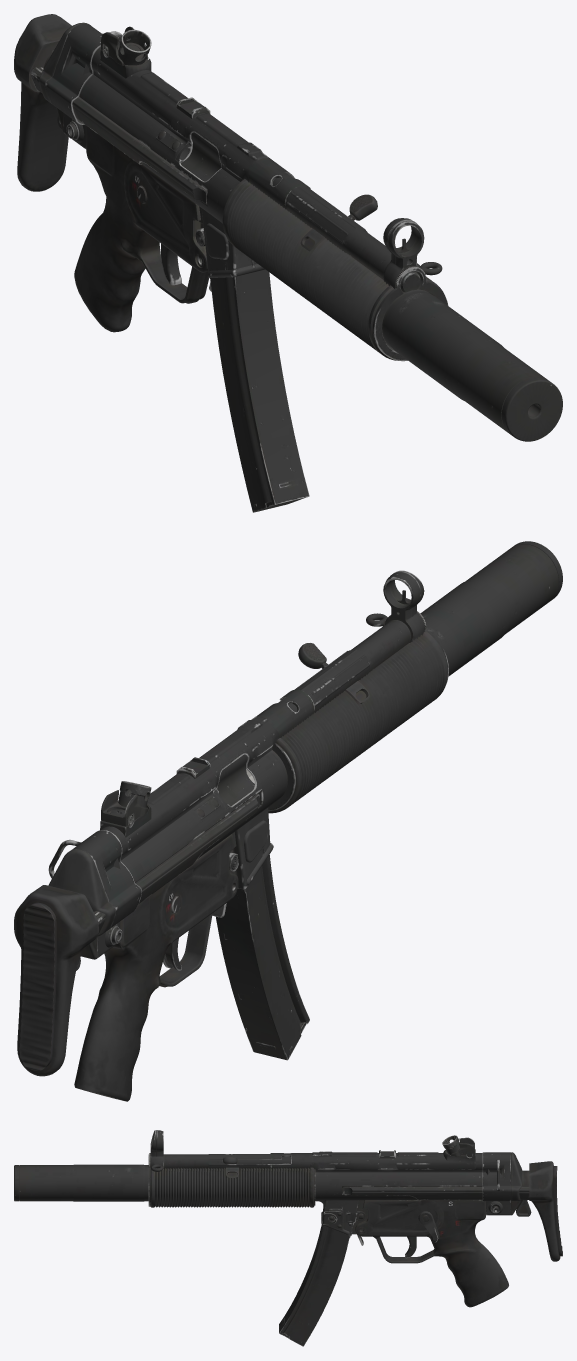
The picture shows the model from 3 angles, top to bottom: view 1: azimuth 30°, elevation 25°; view 2: azimuth 150°, elevation 25°; view 3: azimuth 270°, elevation 25°; orthographic projection. The views are drawn at different scales.
Visible parts, largest first — view 1: MP5SD_CS2; view 2: MP5SD_CS2; view 3: MP5SD_CS2.
Boxes of the visible parts, left/top/right/bottom form: MP5SD_CS2: left=14, top=14, right=562, bottom=512; MP5SD_CS2: left=14, top=541, right=562, bottom=1101; MP5SD_CS2: left=14, top=1130, right=562, bottom=1346.
Size of the model in its own units: 0.067 by 0.3029 by 0.7135.
Materials: 1 (1 with a texture image).
